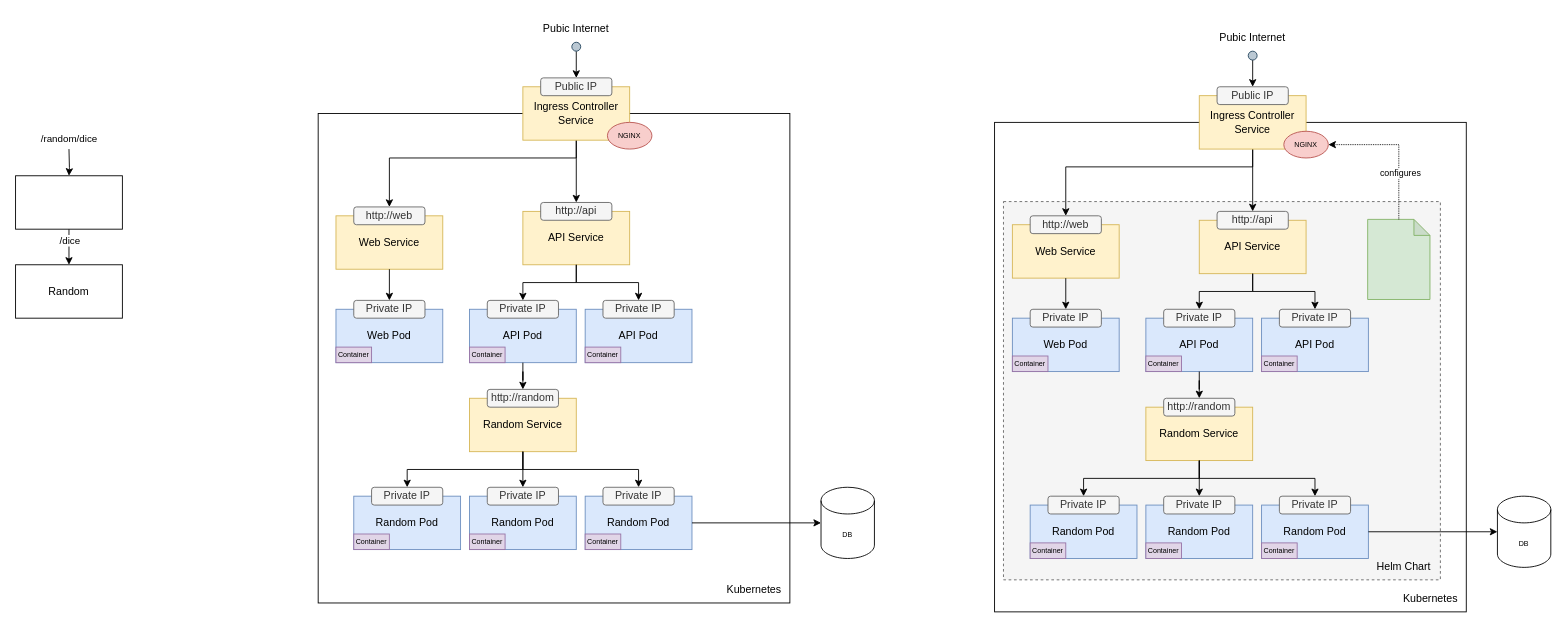
Image size: 1566x627. Some labels were removed from this diagram. The centre of each missing label's shape, as x and y in pixels:
"API" goes at point (68, 202).
"ingress.yaml" goes at point (1398, 258).
